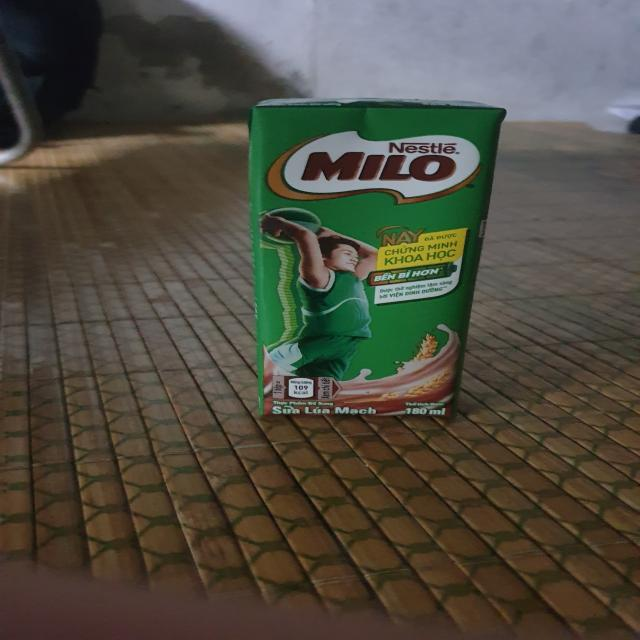Milo: (235, 98, 515, 425)
